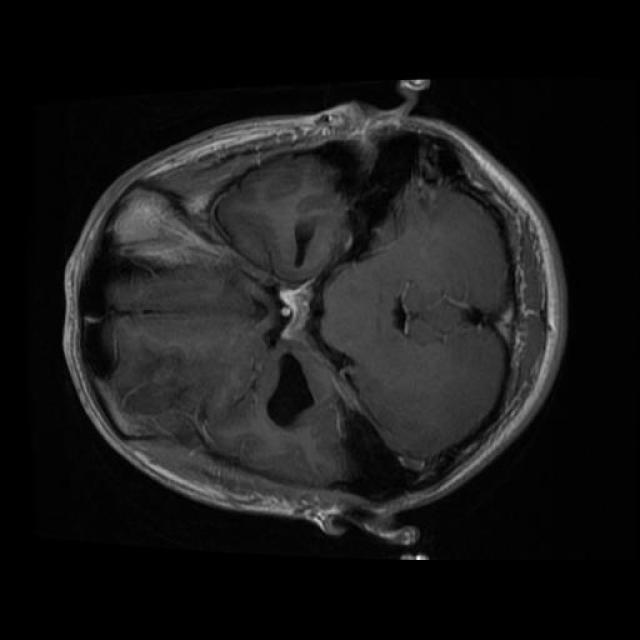Glioma: (267, 353, 313, 426)
